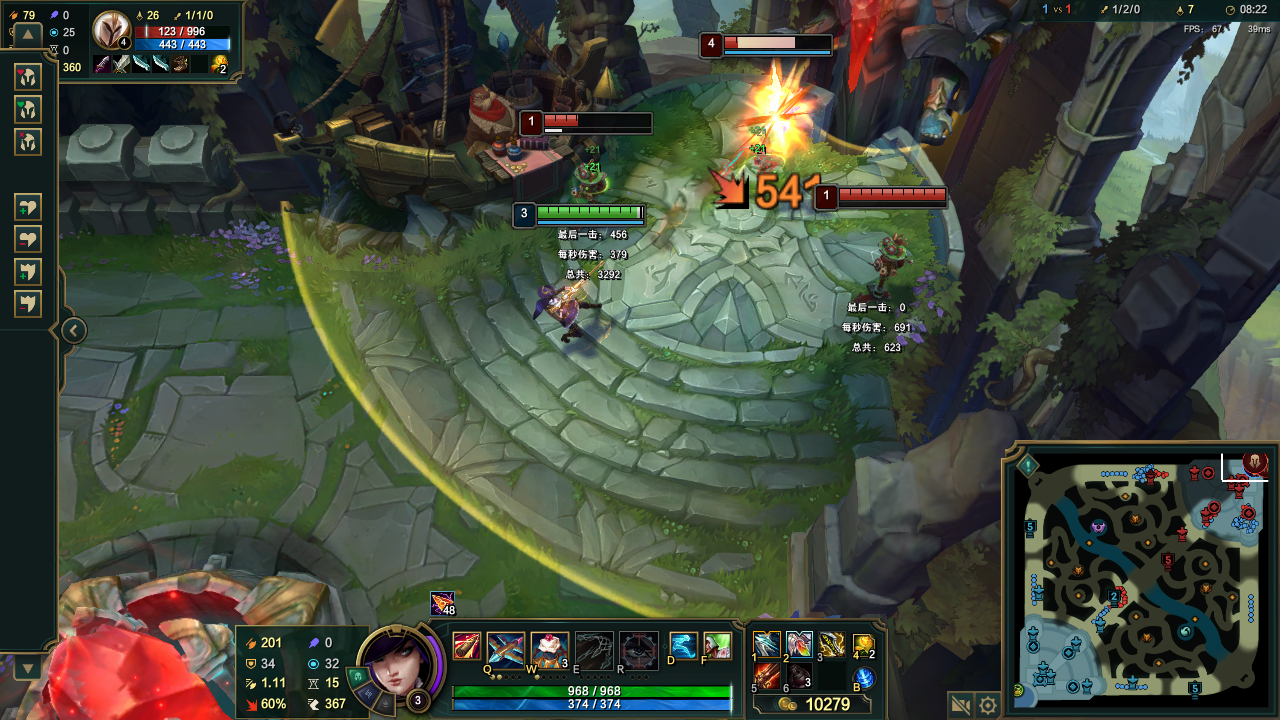DFYX: (543, 111, 655, 125), (838, 186, 948, 199)
